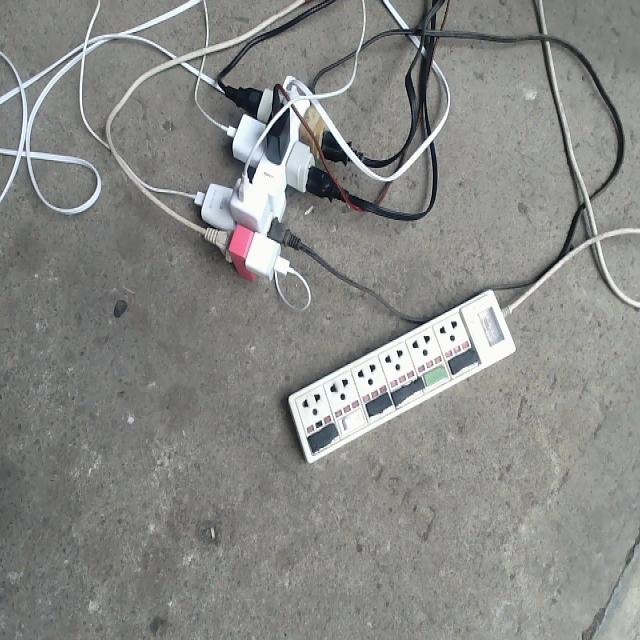-: (194, 75, 361, 277)
